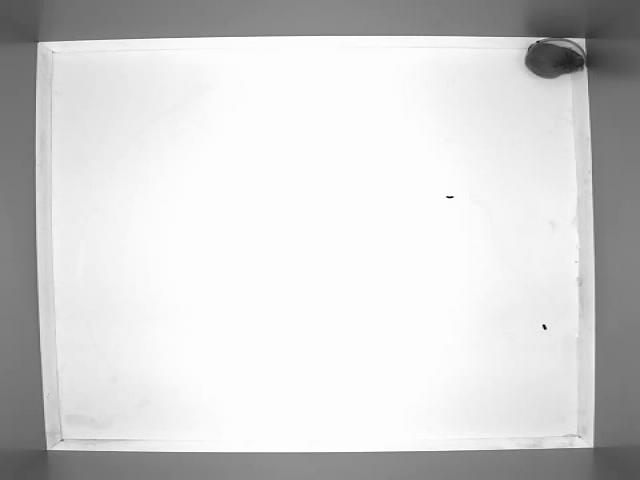Tikus: (526, 38, 590, 80)
